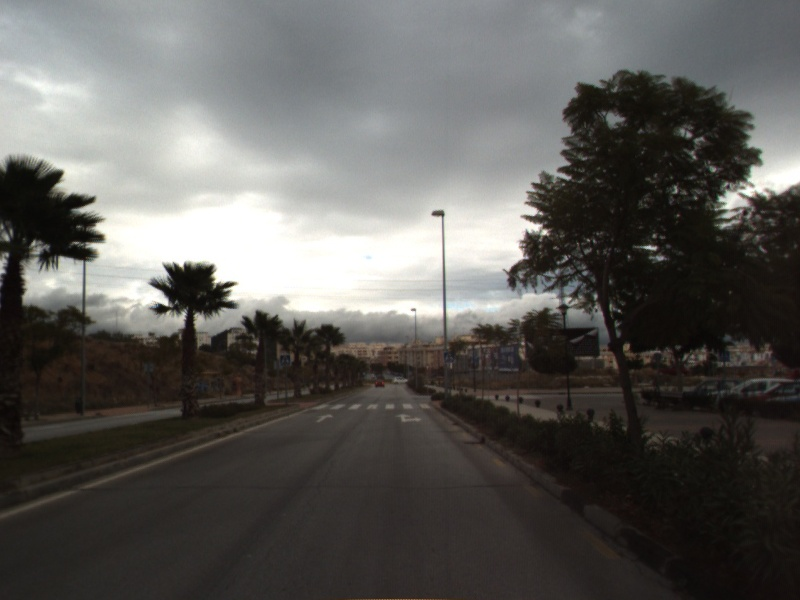STRAIGHT: (314, 412, 336, 424)
STRAIGHT_RIGHT: (393, 411, 424, 425)
